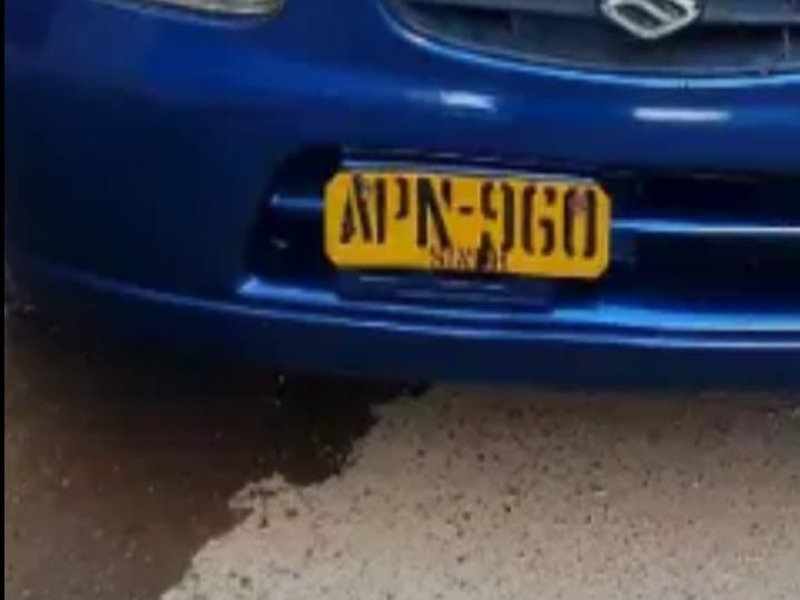License Plate: (320, 161, 612, 285)
